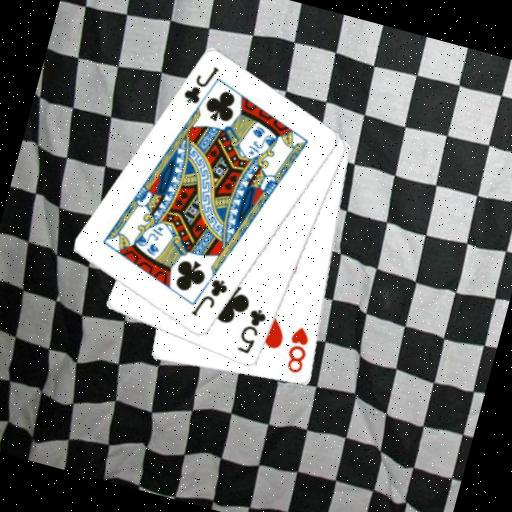5C: (233, 303, 269, 358)
8H: (279, 321, 315, 376)
JC: (187, 272, 231, 325), (178, 57, 221, 110)
